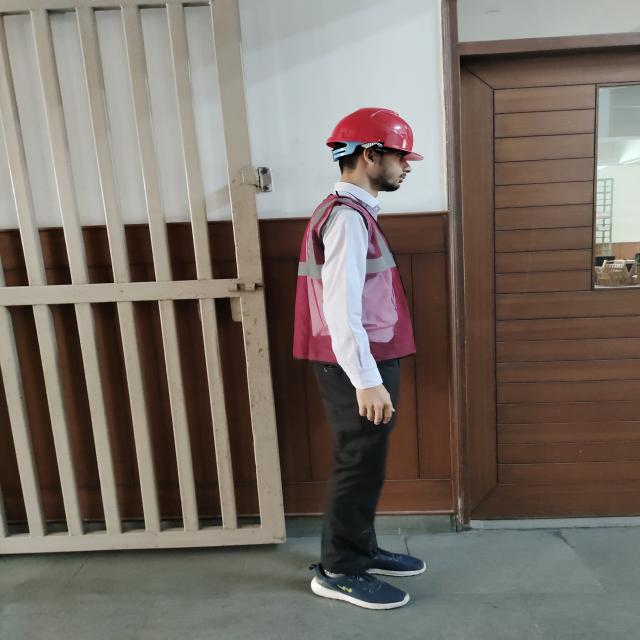safe: (293, 108, 424, 607)
